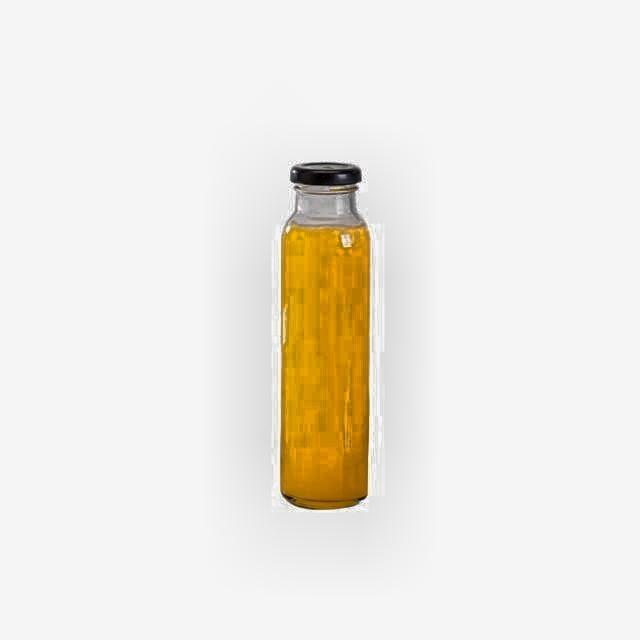glass: (279, 162, 372, 512)
